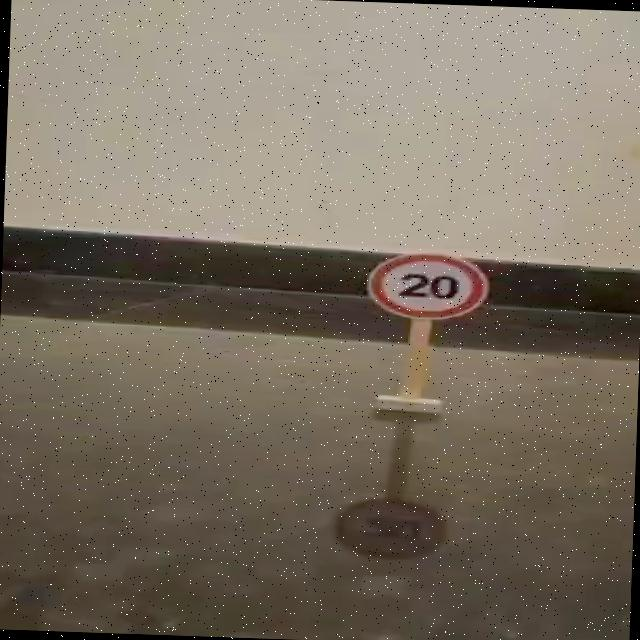Speed20: (346, 242, 505, 330)
